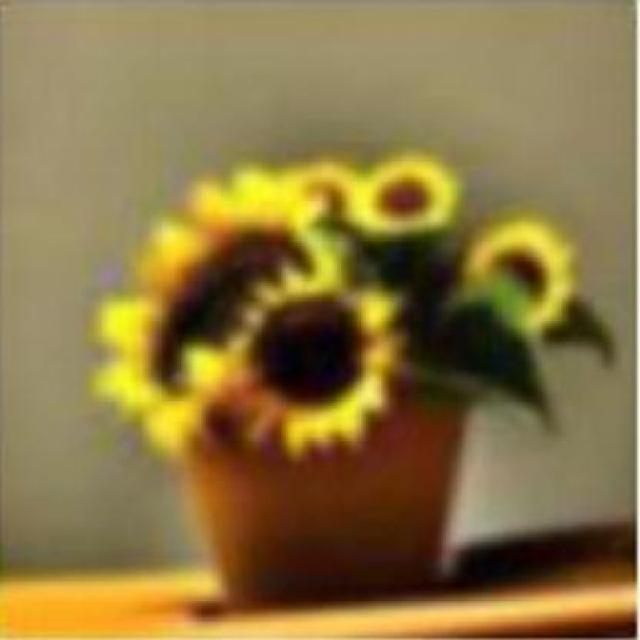sunflower: (90, 164, 318, 441), (218, 279, 402, 453), (466, 214, 578, 336), (352, 155, 458, 240)
